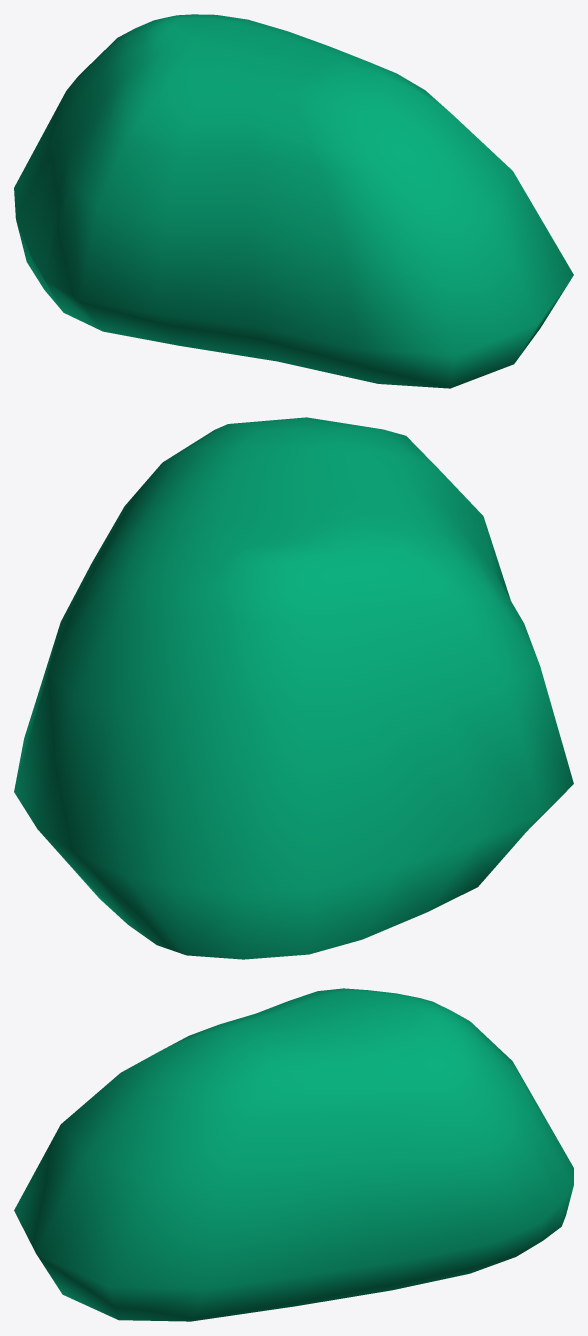
File: Flag_01.fbx
The picture shows the model from 3 angles, top to bottom: view 1: azimuth 30°, elevation 25°; view 2: azimuth 150°, elevation 25°; view 3: azimuth 270°, elevation 25°; orthographic projection. The views are drawn at different scales.
Visible parts, largest first — view 1: Flag_01; view 2: Flag_01; view 3: Flag_01.
Boxes of the visible parts, x1,y1,x2,y2 form: Flag_01: (14, 14, 573, 388); Flag_01: (14, 417, 573, 959); Flag_01: (14, 988, 573, 1321).
Size of the model in its own units: 50.58 by 28.17 by 64.75.
